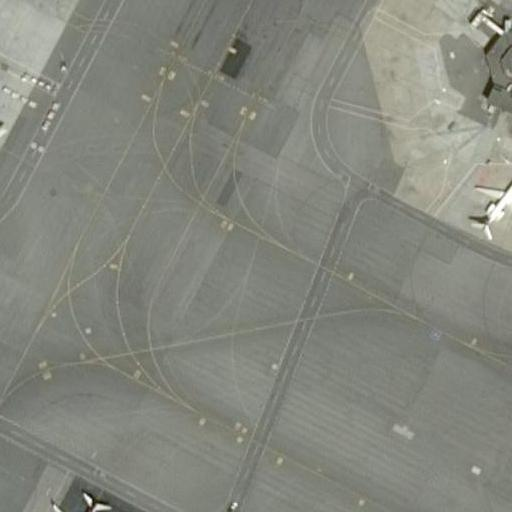Aircraft: (460, 161, 512, 240), (40, 483, 120, 512), (0, 51, 8, 188)
